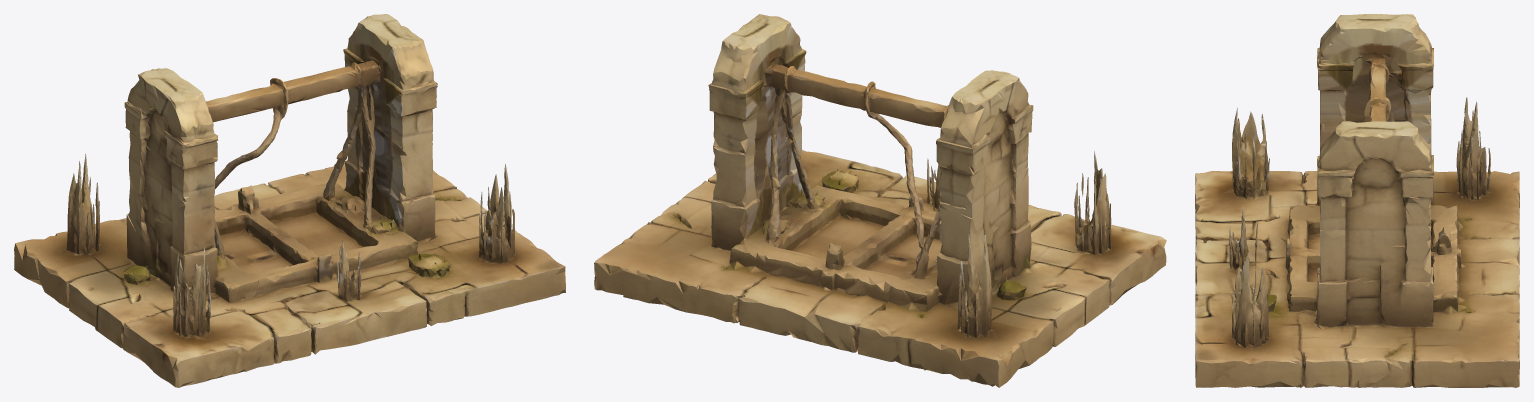
Rendered from ancient_spike_trap.glb.
The picture shows the model from 3 angles, left to right: view 1: azimuth 30°, elevation 25°; view 2: azimuth 150°, elevation 25°; view 3: azimuth 270°, elevation 25°; orthographic projection. The views are drawn at different scales.
Parts seen in each view (by area): view 1: ancient_spike_trap; view 2: ancient_spike_trap; view 3: ancient_spike_trap.
Boxes of the visible parts, x1=… form: ancient_spike_trap: x1=14, y1=14, x2=565, y2=387; ancient_spike_trap: x1=594, y1=14, x2=1166, y2=387; ancient_spike_trap: x1=1195, y1=14, x2=1519, y2=387.
Size of the model in its own units: 1.9 by 1.02 by 1.37.
Materials: 1 (1 with a texture image).
